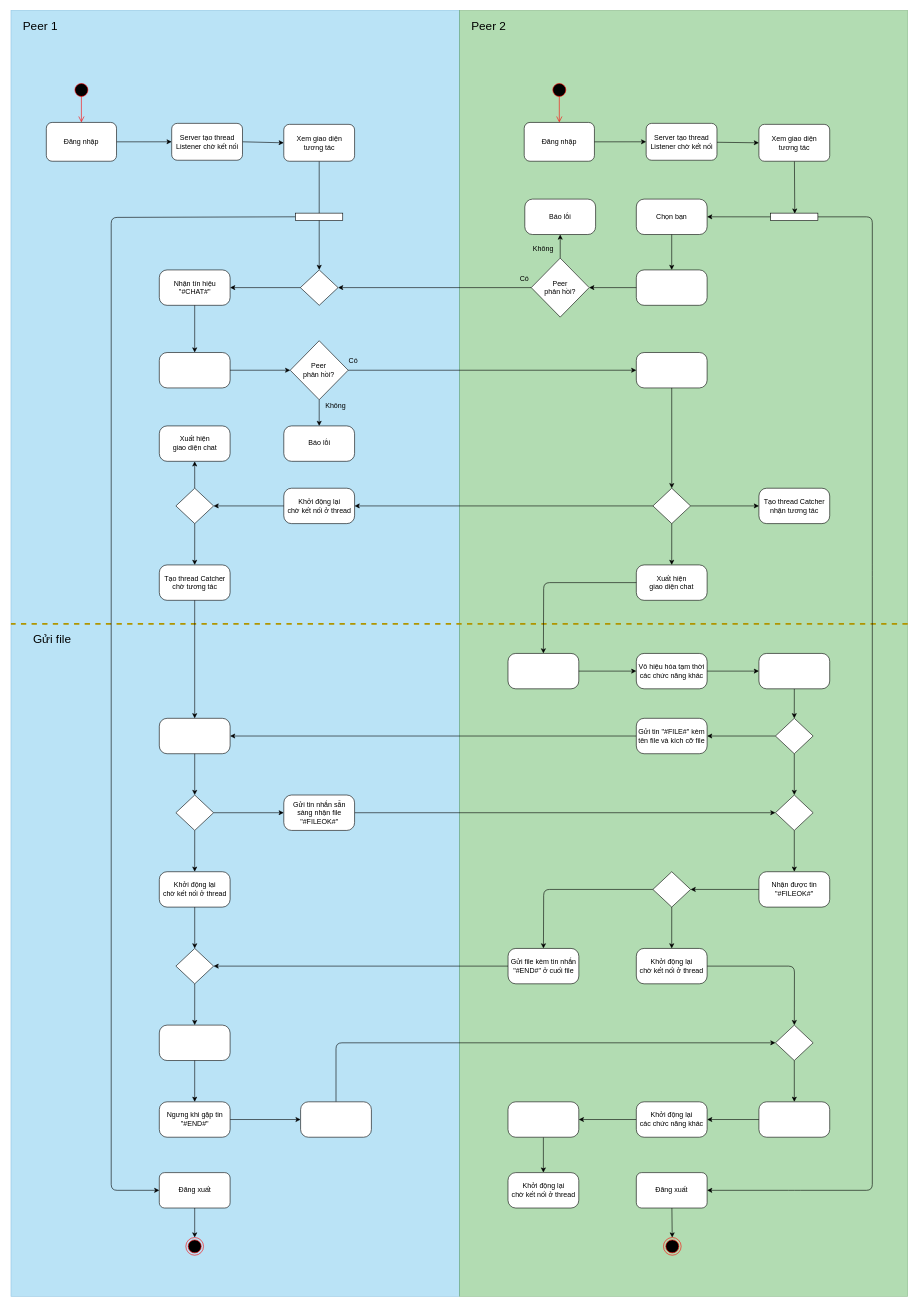
This 919x1307 diagram has some shape labels left out. Here are the shapes that lost their labels. From the top down, the box of each, then its label:
(636, 269, 707, 305): Gửi tín hiệu "#CHAT#", chờ kết nối socket
(159, 352, 230, 388): Tạo socket kết nối
(636, 352, 707, 388): Nhận được phản hồi, kết nối socket
(507, 653, 579, 689): Người dùng nhập vào đường dẫn file
(758, 653, 830, 689): Tạo thread DataLink để tương tác với file
(159, 718, 230, 754): Nhận được thông tin với header "#FILE#"
(159, 1025, 230, 1061): Viết file bằng cách chia file thành nhiều gói tin nhỏ
(300, 1101, 371, 1137): Gửi tin xác nhận "#COMPLETED#"
(507, 1101, 579, 1137): Đóng và thoát khỏi thread Datalink
(758, 1101, 830, 1137): Nhận được tin "#COMPLETED#"
